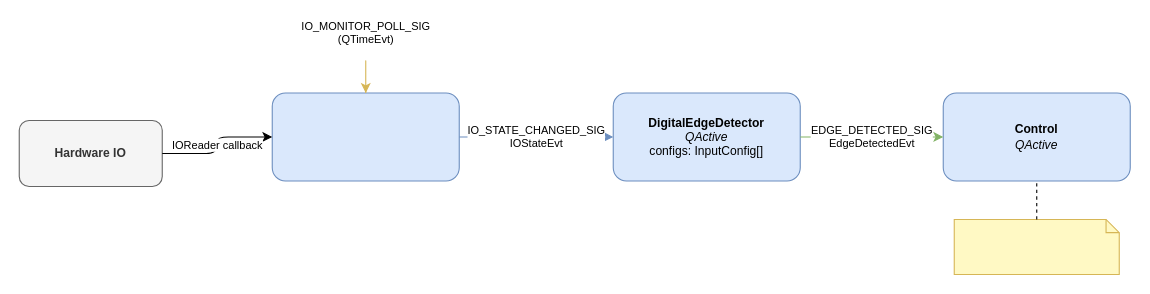
The diagram is 1150 pixels wide and 294 high, and some of its shapes have lost their labels. Here are the shapes that lost their labels. From the top down, the box of each, then its label:
(271, 92, 459, 181): IOStateMonitor QActive poll_ticks: uint32_t
(953, 218, 1119, 274): imprime flanco detectado
